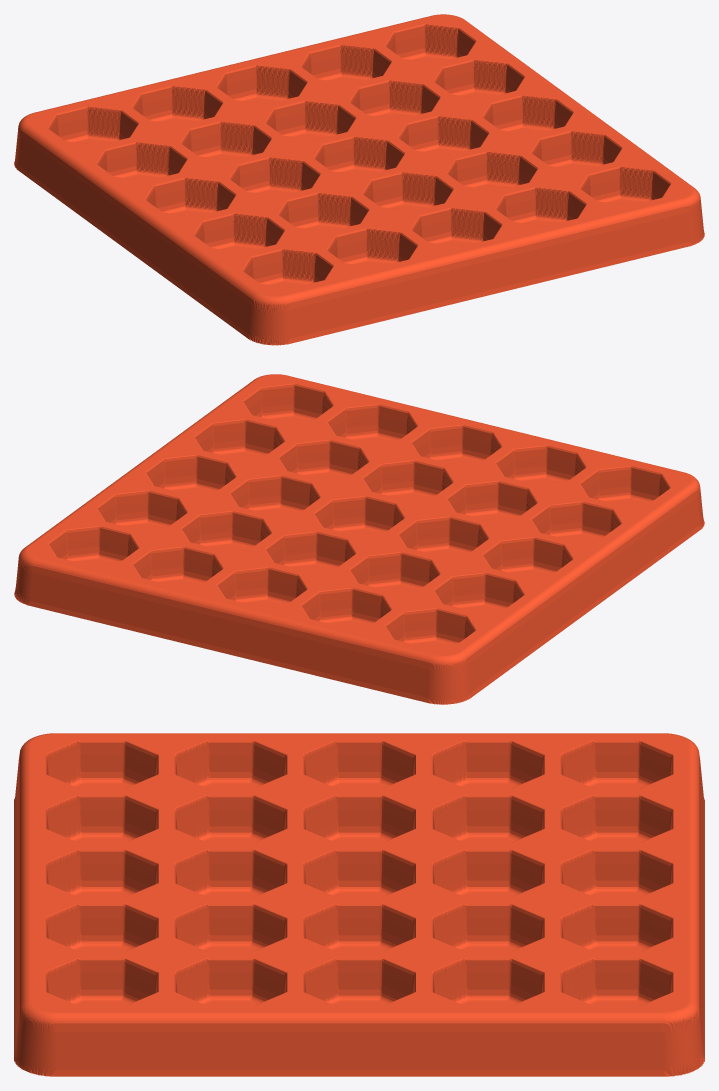
File: mold.glb
The picture shows the model from 3 angles, top to bottom: view 1: azimuth 30°, elevation 25°; view 2: azimuth 150°, elevation 25°; view 3: azimuth 270°, elevation 25°; orthographic projection. The views are drawn at different scales.
Visible parts, largest first — view 1: geometry_0; view 2: geometry_0; view 3: geometry_0.
Boxes of the visible parts, <box> form: geometry_0: <box>14,14,704,345</box>; geometry_0: <box>14,374,704,704</box>; geometry_0: <box>14,733,704,1076</box>.
Bounding box in the file's own units: 0.148 × 0.0136 × 0.148.
